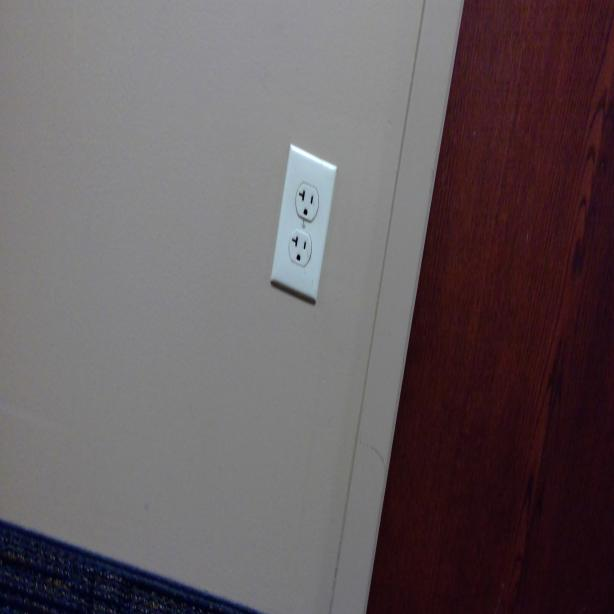typeb: (294, 184, 318, 221), (289, 232, 312, 267)
